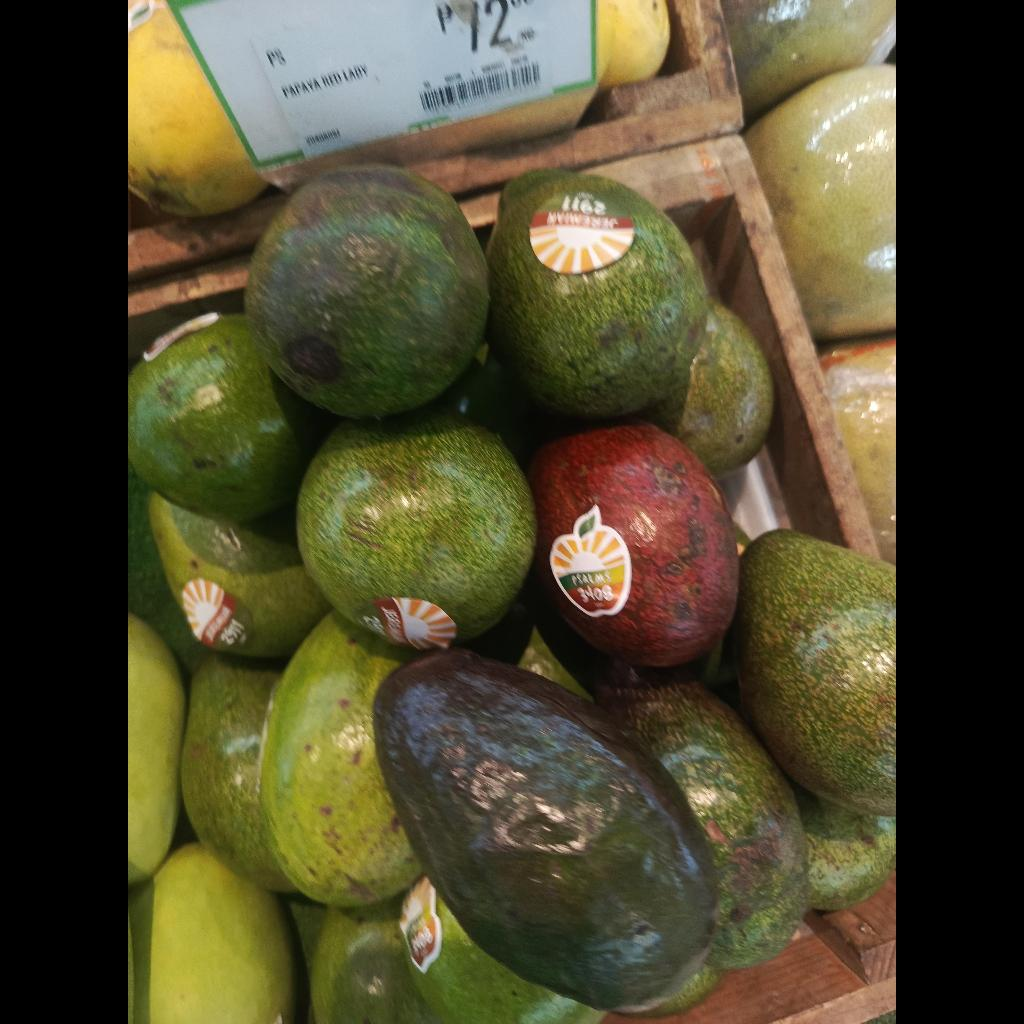anthracnose: (245, 164, 489, 418)
